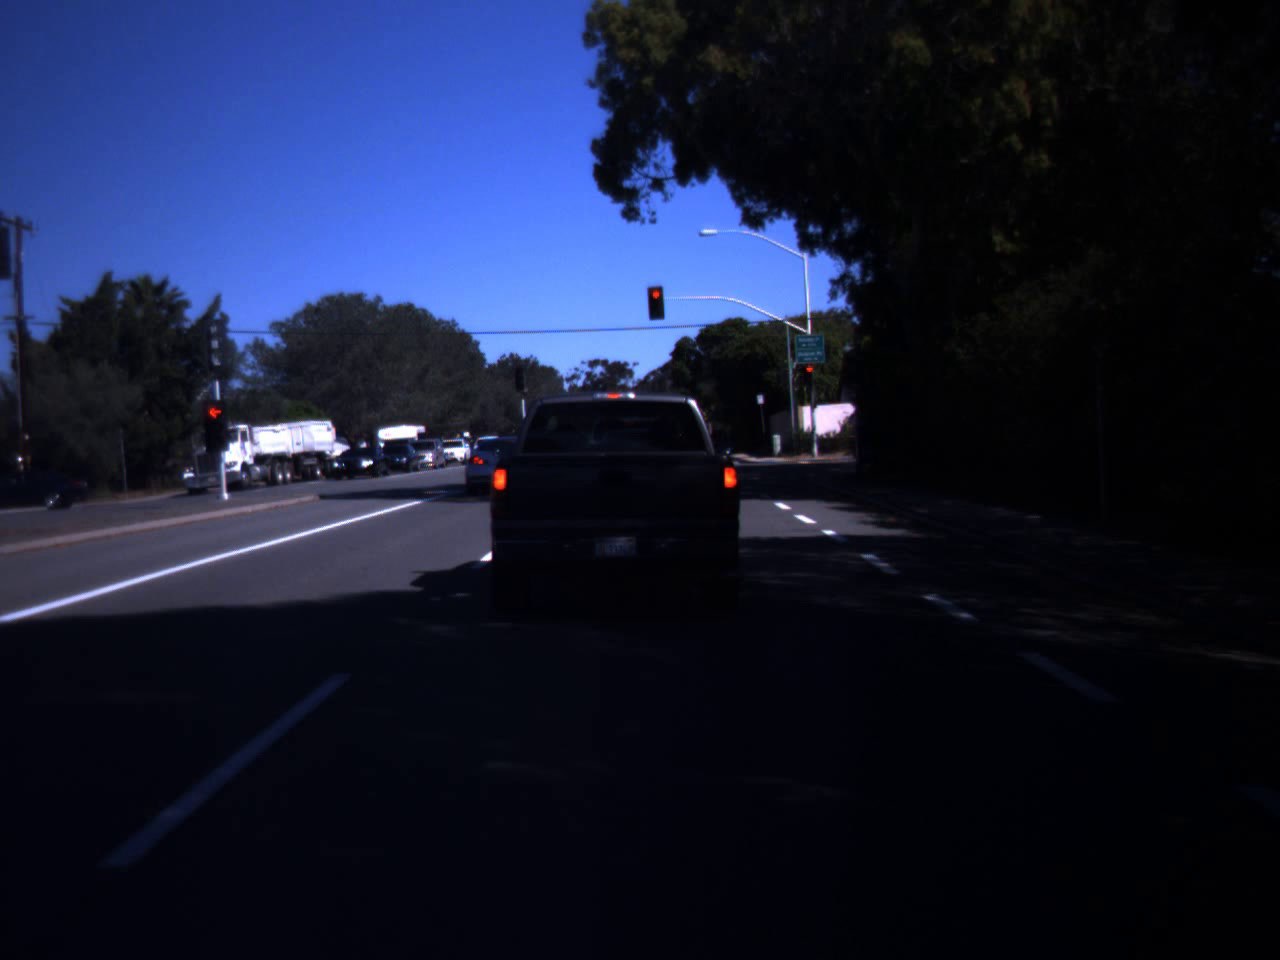stop: (200, 405, 230, 436), (650, 289, 662, 316), (804, 365, 816, 383)
